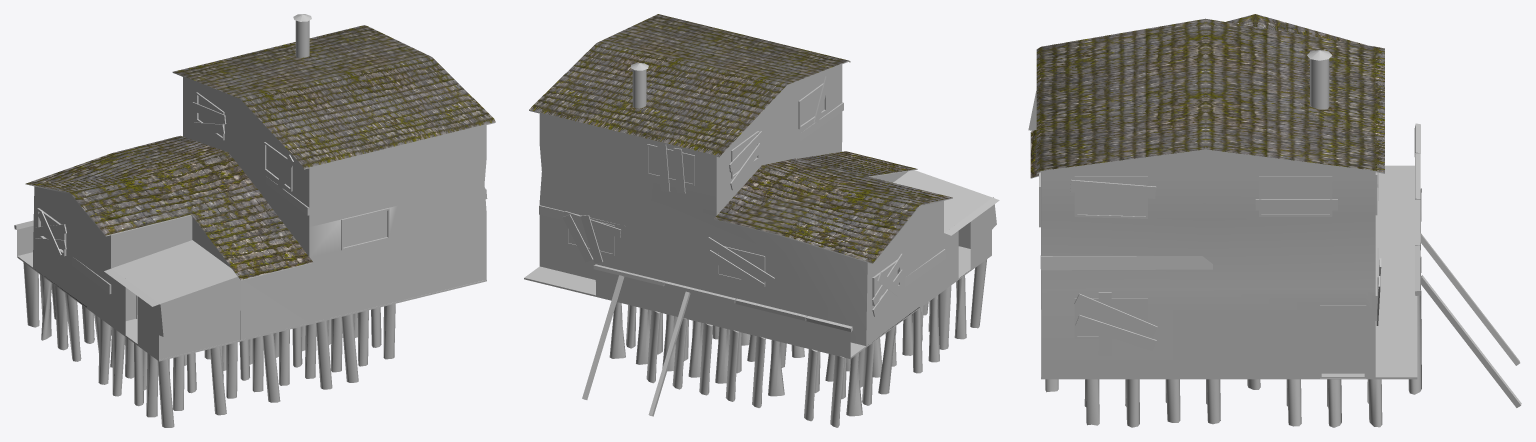
The model's file is CasaExterior.FBX.
The picture shows the model from 3 angles, left to right: view 1: azimuth 30°, elevation 25°; view 2: azimuth 150°, elevation 25°; view 3: azimuth 270°, elevation 25°; orthographic projection. The views are drawn at different scales.
Visible parts, largest first — view 1: Box001, Box002, Cylinder002, Cylinder009, Cylinder006, Cylinder008, Cylinder092, Cylinder004, Cylinder042, Cylinder032, Cylinder012, Cylinder062 (+13 smaller); view 2: Box001, Object022, Box002, Object027, Object028, Cylinder082, Cylinder097, Cylinder092, Cylinder002, Cylinder093, Cylinder095, Cylinder085 (+21 smaller); view 3: Box001, Box002, Object027, Object014, Object005, Object028, Object003, Object008, Cylinder001, Cylinder081, Cylinder031, Cylinder071 (+6 smaller).
Part boxes in pixels (<box>): Box001: <box>25,25,495,359</box>; Box002: <box>17,252,486,361</box>; Cylinder002: <box>157,359,174,427</box>; Cylinder009: <box>341,314,358,382</box>; Cylinder006: <box>262,333,280,402</box>; Cylinder008: <box>316,320,332,389</box>; Cylinder092: <box>23,262,39,327</box>; Cylinder004: <box>210,346,226,415</box>; Cylinder042: <box>98,318,111,384</box>; Cylinder032: <box>112,328,125,396</box>; Cylinder012: <box>146,353,158,417</box>; Cylinder062: <box>64,292,81,361</box>; Box001: <box>529,14,999,346</box>; Object022: <box>595,270,850,358</box>; Box002: <box>524,246,991,358</box>; Object027: <box>582,275,624,399</box>; Object028: <box>648,291,690,416</box>; Cylinder082: <box>846,353,862,416</box>; Cylinder097: <box>699,323,712,395</box>; Cylinder092: <box>830,355,844,427</box>; Cylinder002: <box>970,259,986,328</box>; Cylinder093: <box>804,349,818,421</box>; Cylinder095: <box>752,336,765,407</box>; Cylinder085: <box>768,340,784,396</box>; Box001: <box>1028,14,1384,378</box>; Box002: <box>1041,165,1417,379</box>; Object027: <box>1420,275,1521,407</box>; Object014: <box>1070,179,1156,198</box>; Object005: <box>1074,293,1157,337</box>; Object028: <box>1420,233,1520,365</box>; Object003: <box>1075,315,1156,351</box>; Object008: <box>1255,199,1337,210</box>; Cylinder001: <box>1310,59,1329,109</box>; Cylinder081: <box>1328,379,1341,427</box>; Cylinder031: <box>1126,379,1139,427</box>; Cylinder071: <box>1287,379,1301,426</box>.
Size of the model in its own units: 495 by 386 by 464.
